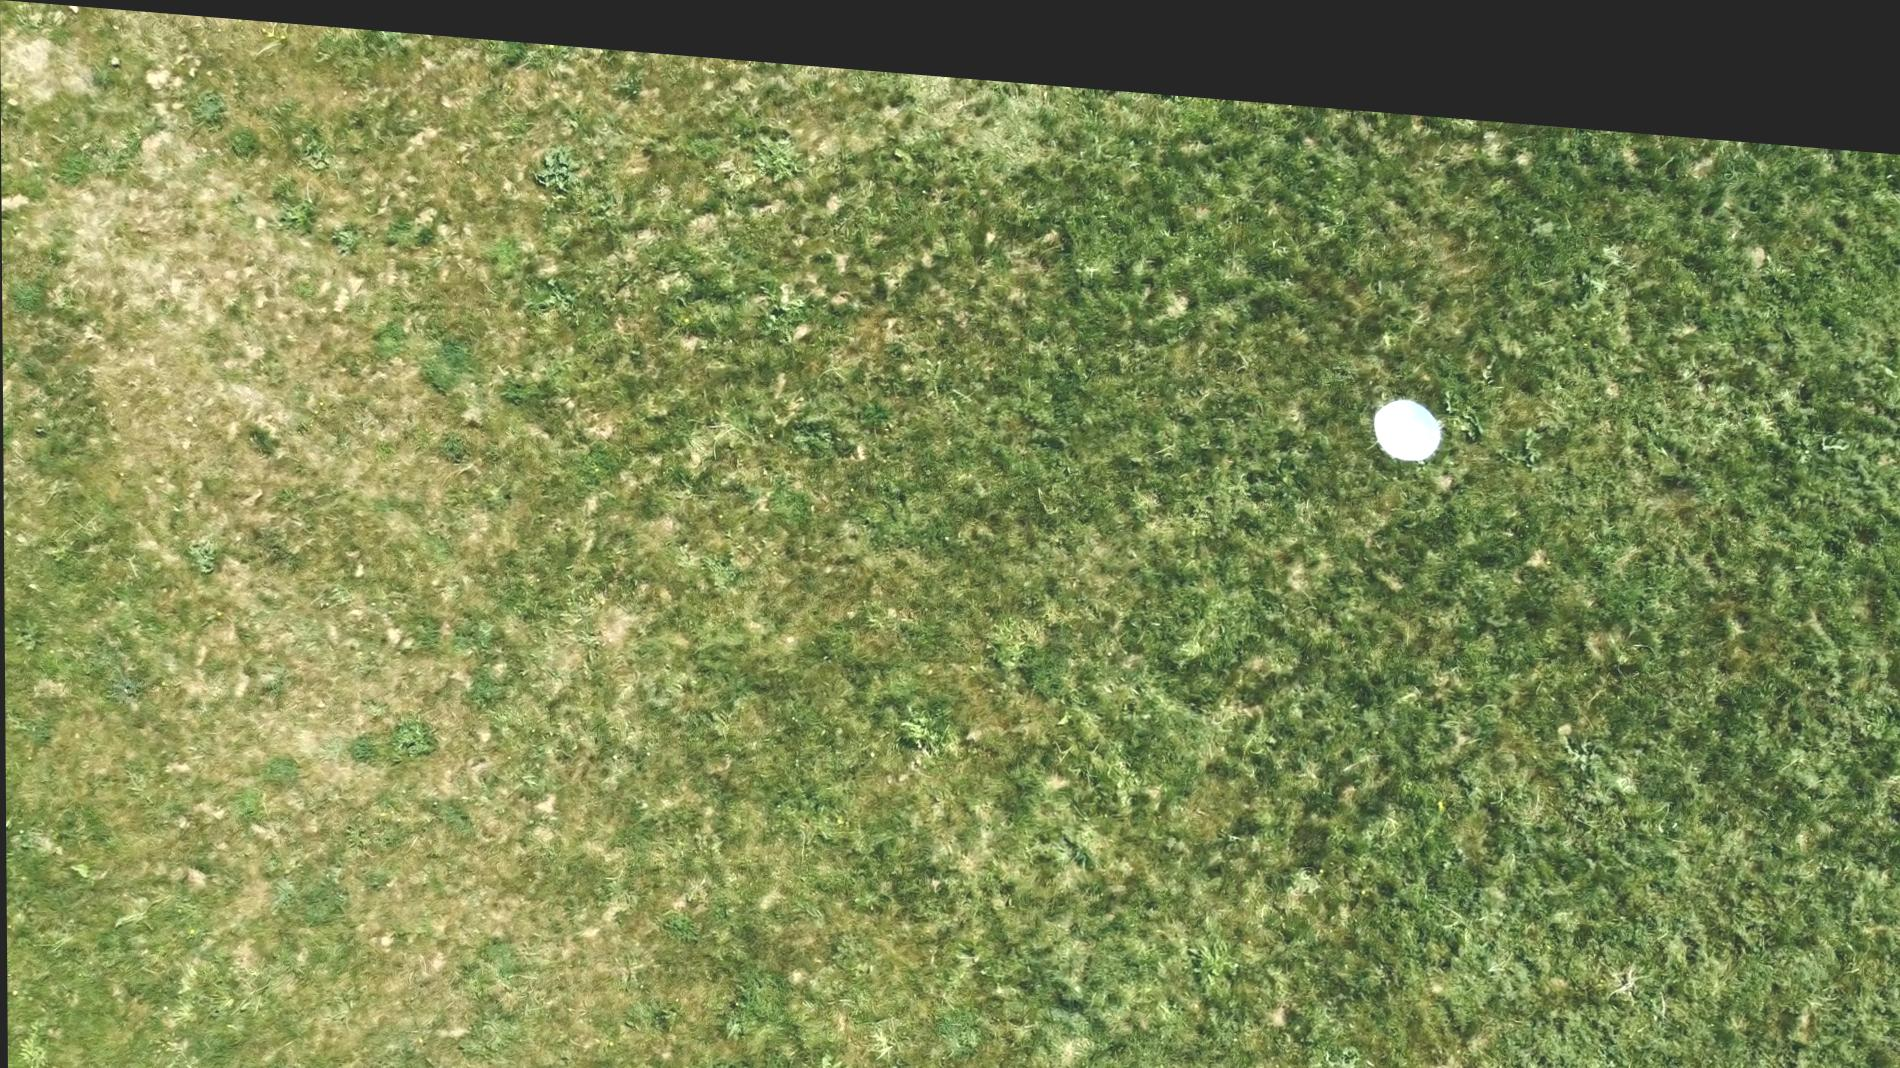Blue: (1371, 372, 1442, 440)
